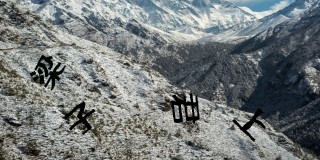上: (233, 107, 265, 141)
君: (170, 92, 200, 125)
子: (64, 101, 96, 135)
梁: (30, 54, 66, 91)
